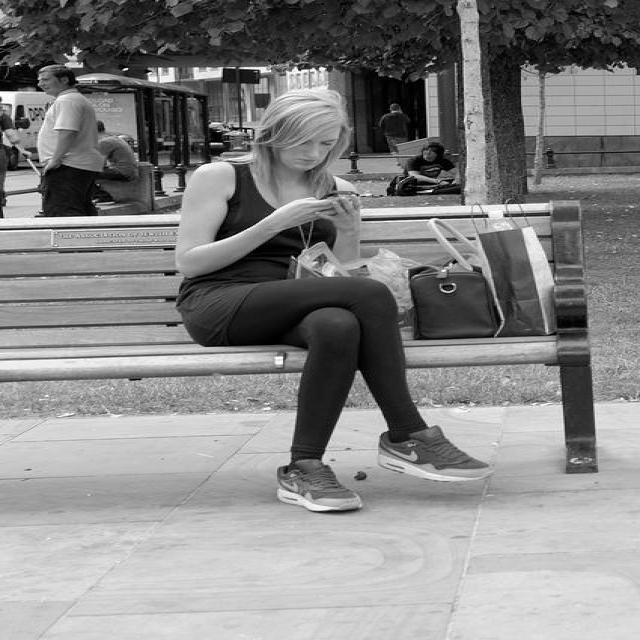vehicle: (0, 92, 57, 162), (209, 122, 251, 142)
